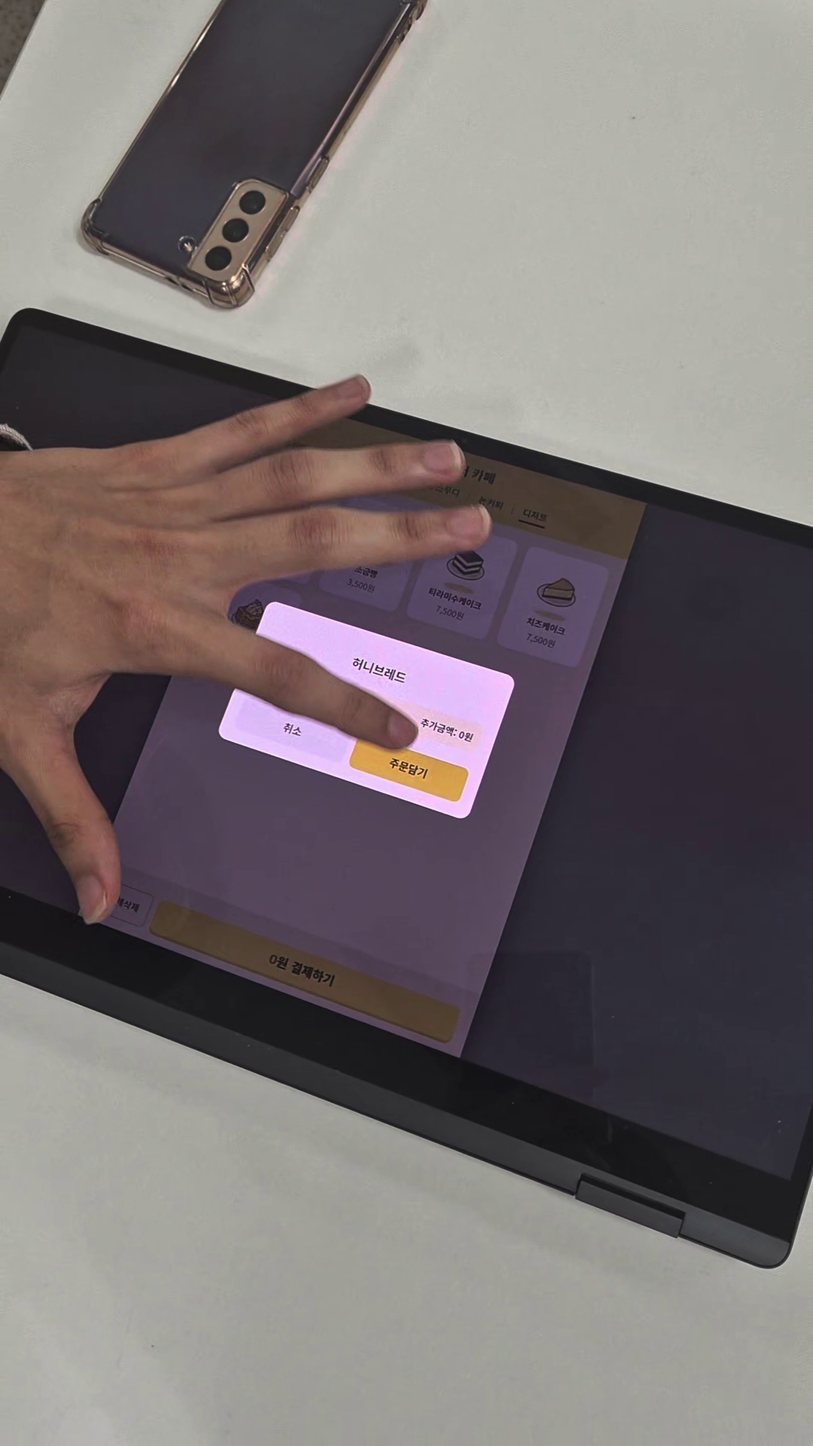action_button: (147, 899, 462, 1046), (348, 733, 471, 804), (232, 695, 354, 765), (93, 879, 154, 929)
category_tab: (521, 506, 550, 525), (476, 495, 505, 512)
menu_back: (497, 545, 611, 669), (405, 519, 519, 643)
menu_name: (350, 655, 408, 686), (427, 585, 484, 612), (525, 616, 567, 637), (353, 564, 379, 580)
menu_price: (433, 603, 466, 623), (524, 631, 557, 650), (345, 577, 377, 595)
popup_modal: (216, 600, 517, 822)
